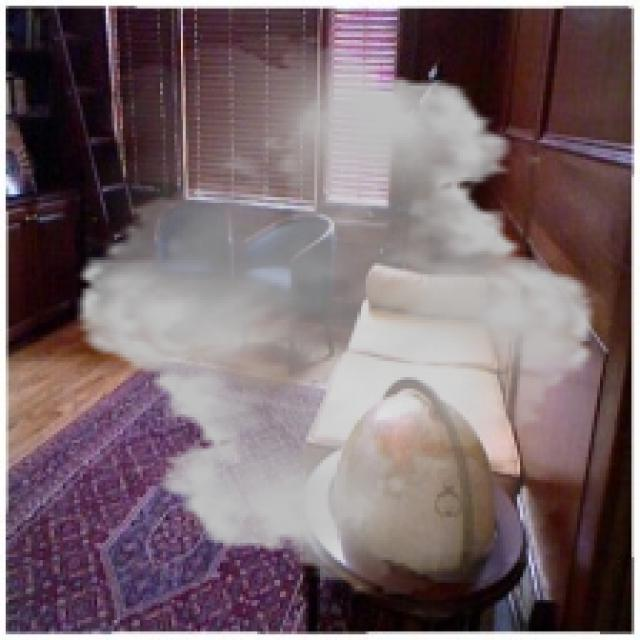smoke: (54, 34, 617, 594)
